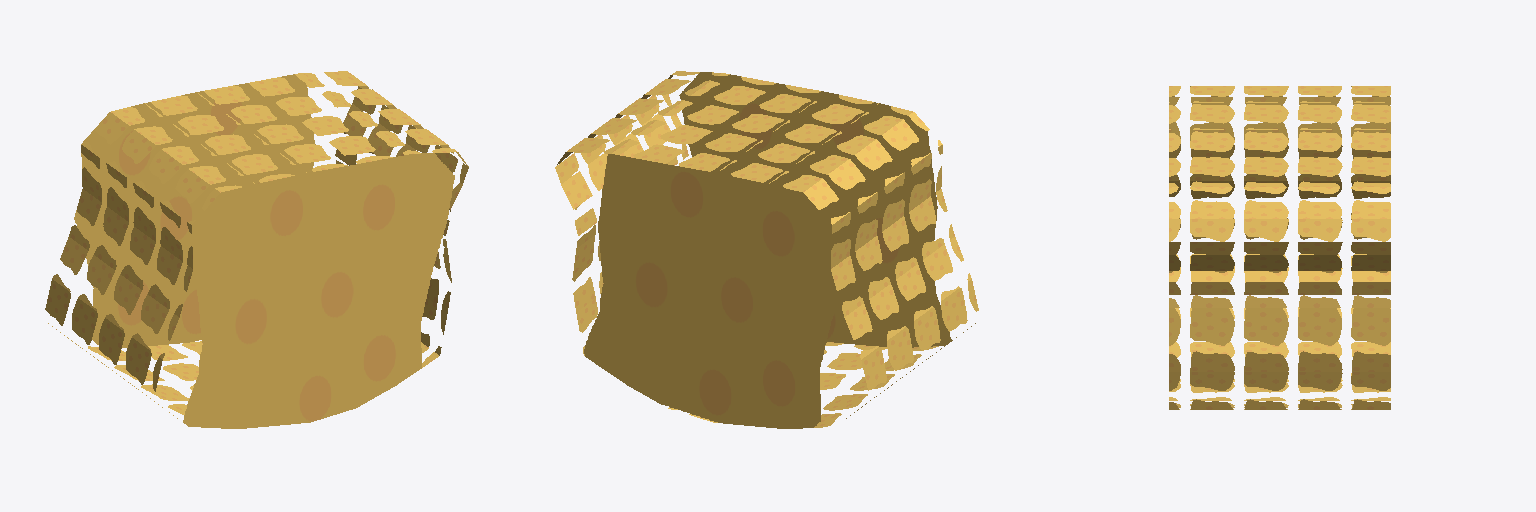
3 renders of one model, left to right at view 1: azimuth 30°, elevation 25°; view 2: azimuth 150°, elevation 25°; view 3: azimuth 270°, elevation 25°, orthographic.
Parts seen in each view (by area): view 1: Cheese; view 2: Cheese; view 3: Cheese.
Boxes of the visible parts, <box> form: Cheese: <box>45,71,468,428</box>; Cheese: <box>555,71,978,428</box>; Cheese: <box>1169,86,1390,409</box>.
Bounding box in the file's own units: 6.77 × 5.17 × 4.12.
1 materials, 1 textured.